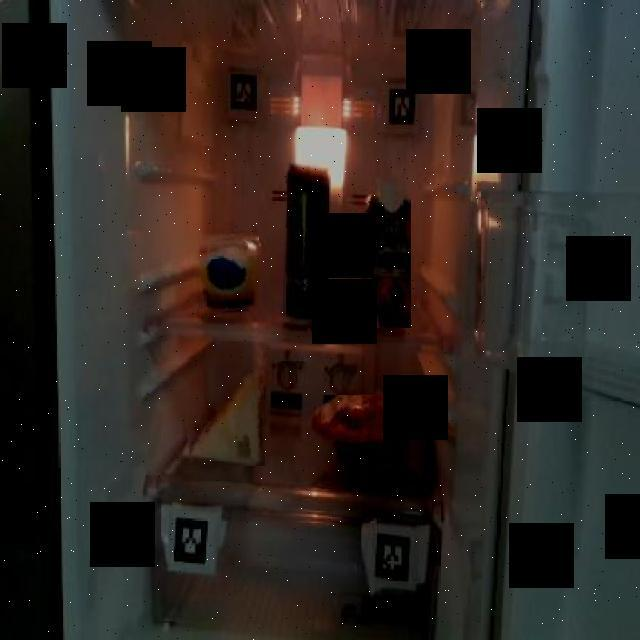bento: (310, 396, 432, 470)
energy_drink: (280, 160, 329, 322)
pudding: (192, 228, 259, 314)
sandwich: (180, 356, 266, 466)
smoothie: (357, 174, 411, 328)
